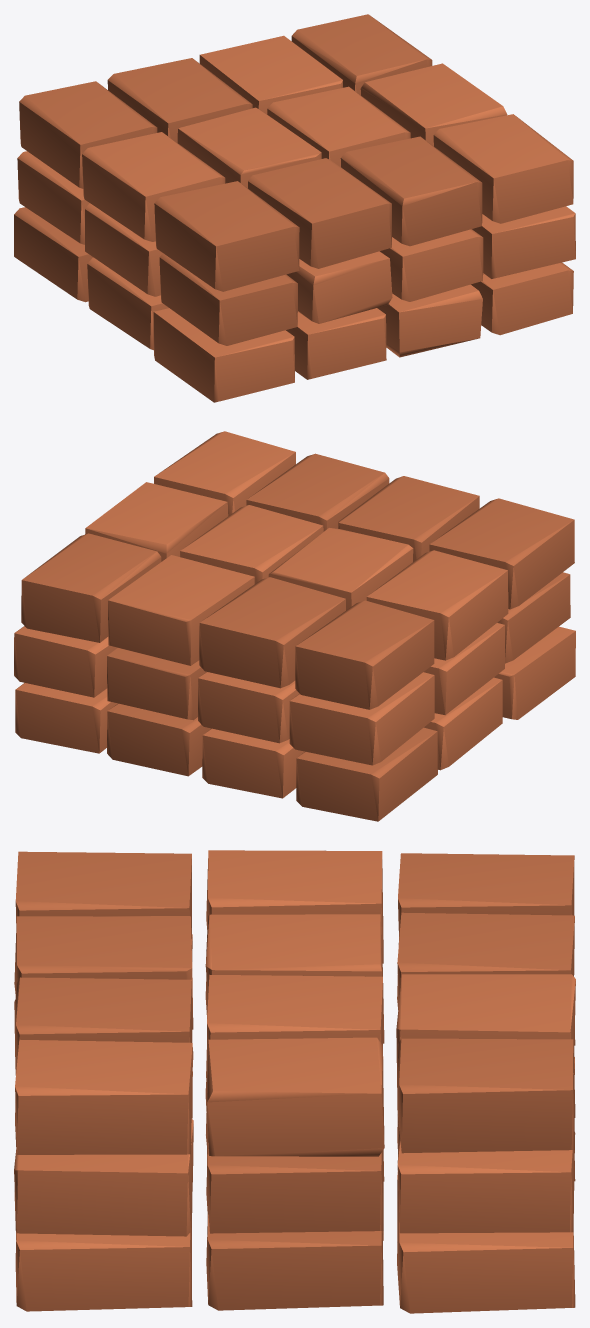
The model's file is BSC-07-LOD1.glb.
3 views of the same model, one above another, from view 1: azimuth 30°, elevation 25°; view 2: azimuth 150°, elevation 25°; view 3: azimuth 270°, elevation 25° (orthographic). The views are drawn at different scales.
Visible parts, largest first — view 1: handmade block.024, handmade block.027, handmade block.033, handmade block.030, handmade block.025, handmade block, handmade block.026, handmade block.012, handmade block.029, handmade block.028, handmade block.034, handmade block.032 (+12 smaller); view 2: handmade block.026, handmade block.029, handmade block.032, handmade block.035, handmade block.025, handmade block.024, handmade block.014, handmade block.002, handmade block.028, handmade block.033, handmade block.027, handmade block.034 (+12 smaller); view 3: handmade block.034, handmade block.033, handmade block.035, handmade block.021, handmade block.023, handmade block.011, handmade block.010, handmade block.022, handmade block.009, handmade block.032, handmade block.025, handmade block.024 (+6 smaller).
Boxes of the visible parts, x1,y1,x2,y2 form: handmade block.024: [154, 181, 299, 291]; handmade block.027: [248, 158, 391, 268]; handmade block.033: [433, 114, 573, 223]; handmade block.030: [340, 136, 482, 246]; handmade block.025: [82, 132, 225, 241]; handmade block: [153, 308, 294, 402]; handmade block.026: [19, 81, 157, 188]; handmade block.012: [159, 253, 297, 345]; handmade block.029: [107, 58, 252, 142]; handmade block.028: [177, 107, 321, 188]; handmade block.034: [360, 63, 507, 146]; handmade block.032: [199, 35, 342, 114]; handmade block.026: [295, 600, 434, 709]; handmade block.029: [199, 577, 345, 688]; handmade block.032: [108, 555, 254, 665]; handmade block.035: [21, 533, 161, 642]; handmade block.025: [366, 550, 508, 660]; handmade block.024: [429, 498, 574, 609]; handmade block.014: [289, 672, 434, 765]; handmade block.002: [296, 727, 437, 821]; handmade block.028: [268, 528, 413, 610]; handmade block.033: [154, 431, 295, 515]; handmade block.027: [338, 476, 479, 561]; handmade block.034: [85, 482, 228, 561]; handmade block.034: [205, 1037, 384, 1156]; handmade block.033: [15, 1039, 192, 1154]; handmade block.035: [397, 1038, 574, 1153]; handmade block.021: [14, 1118, 193, 1236]; handmade block.023: [397, 1130, 574, 1233]; handmade block.011: [397, 1202, 575, 1313]; handmade block.010: [206, 1210, 383, 1310]; handmade block.022: [206, 1143, 383, 1233]; handmade block.009: [15, 1219, 192, 1311]; handmade block.032: [396, 974, 575, 1087]; handmade block.025: [206, 850, 383, 963]; handmade block.024: [15, 851, 191, 938].
Size of the model in its own units: 1.91 by 0.7891 by 1.82.
